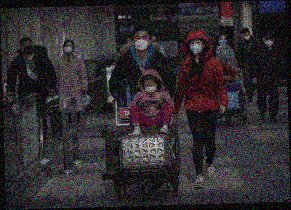with_mask: (133, 34, 150, 52), (189, 39, 203, 56), (22, 41, 34, 55), (144, 82, 157, 93), (63, 43, 74, 55), (218, 37, 229, 46), (263, 38, 274, 47), (243, 33, 251, 41)
